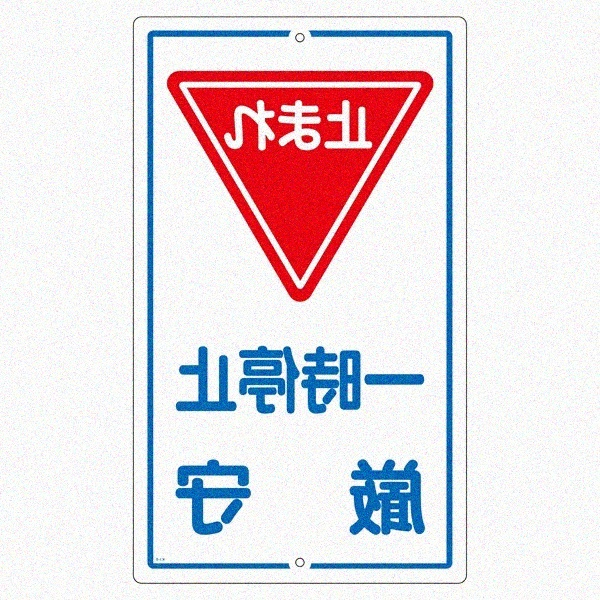Regulatory_sign_triangle: (160, 55, 435, 323)
